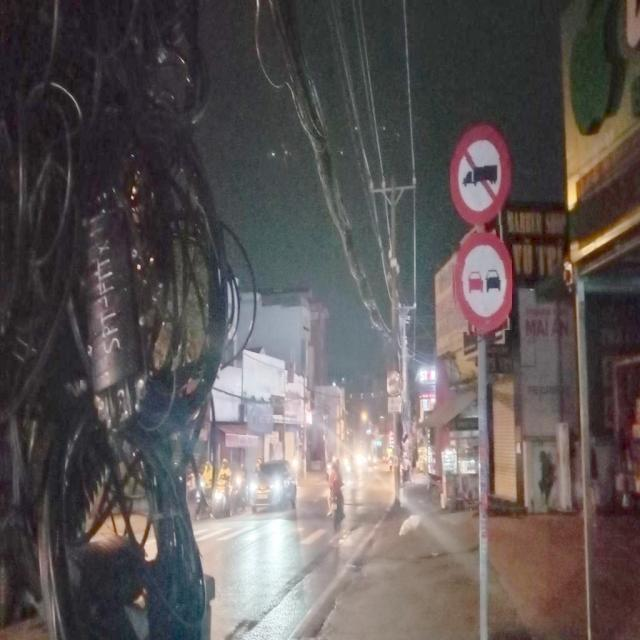106-cam-oto-tai: (387, 372, 401, 396)
125-cam-vuot: (452, 232, 512, 332)
